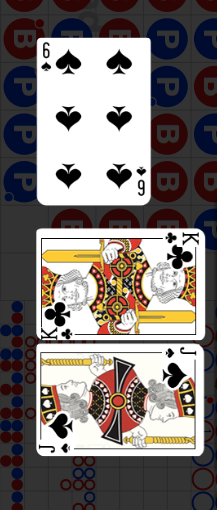6S: (40, 41, 53, 74), (135, 164, 148, 197)
JS: (38, 411, 85, 455), (159, 344, 205, 388)
